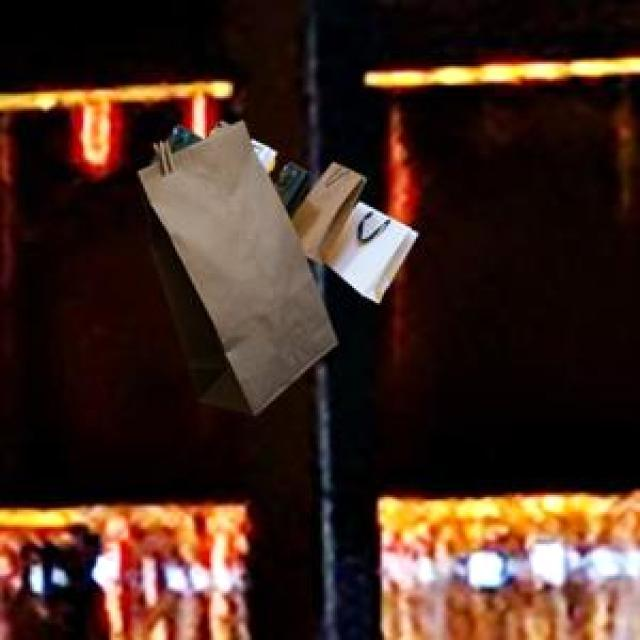Paper_Bag: (135, 118, 334, 411), (163, 118, 414, 300)
